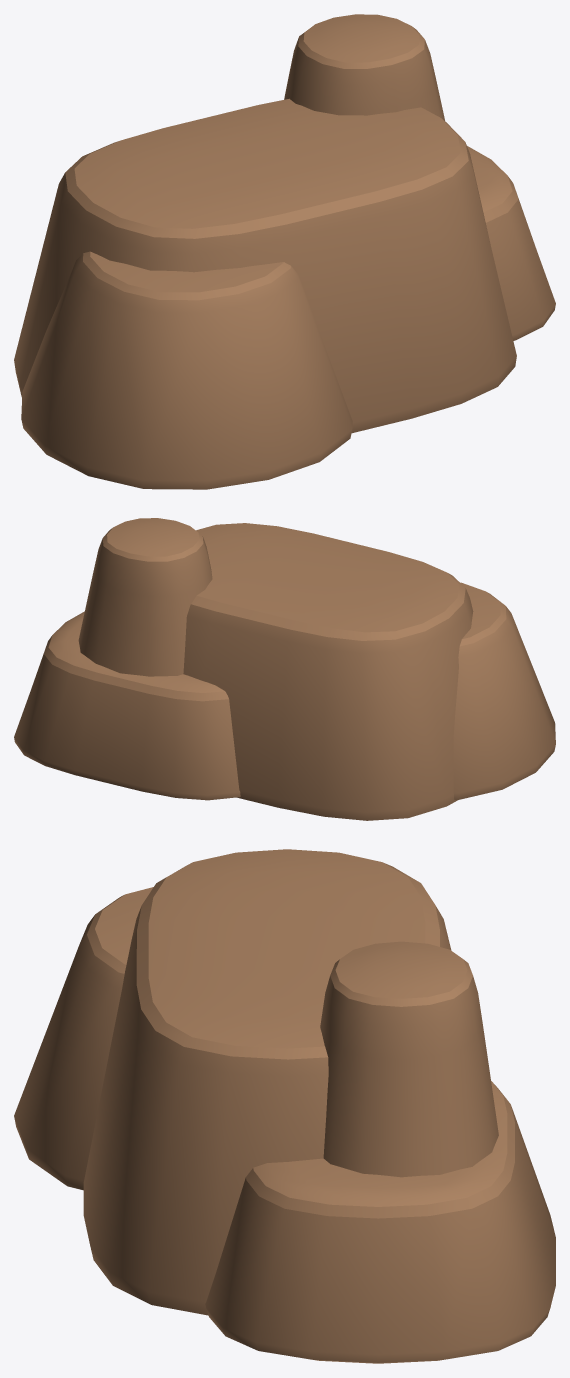
Rendered from RockPlatforms_2.glb.
3 views of the same model, one above another, from view 1: azimuth 30°, elevation 25°; view 2: azimuth 150°, elevation 25°; view 3: azimuth 270°, elevation 25° (orthographic). The views are drawn at different scales.
Parts seen in each view (by area): view 1: RockPlatforms_2; view 2: RockPlatforms_2; view 3: RockPlatforms_2.
Boxes of the visible parts, x1,y1,x2,y2 form: RockPlatforms_2: (14, 14, 555, 489); RockPlatforms_2: (14, 518, 555, 820); RockPlatforms_2: (14, 849, 555, 1363).
Size of the model in its own units: 9.32 by 4.45 by 6.74.
